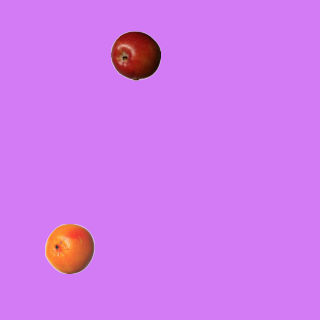Apple Braeburn: (110, 30, 160, 80)
Grapefruit Pink: (44, 223, 94, 273)
